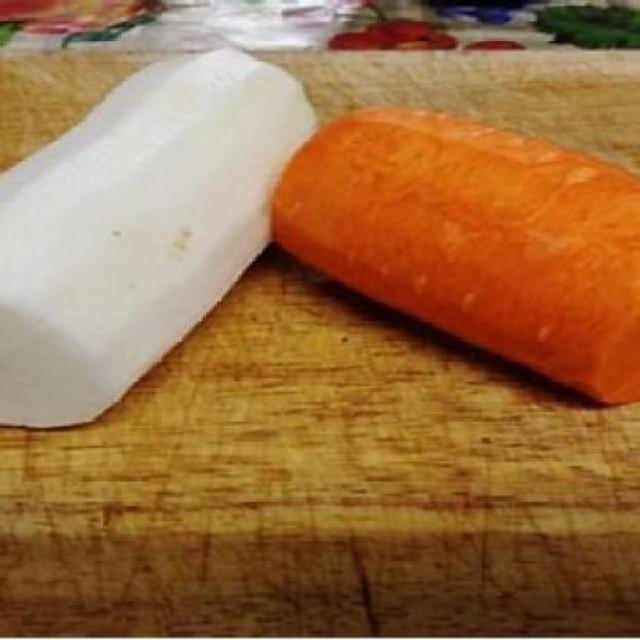carrot: (269, 96, 640, 464)
